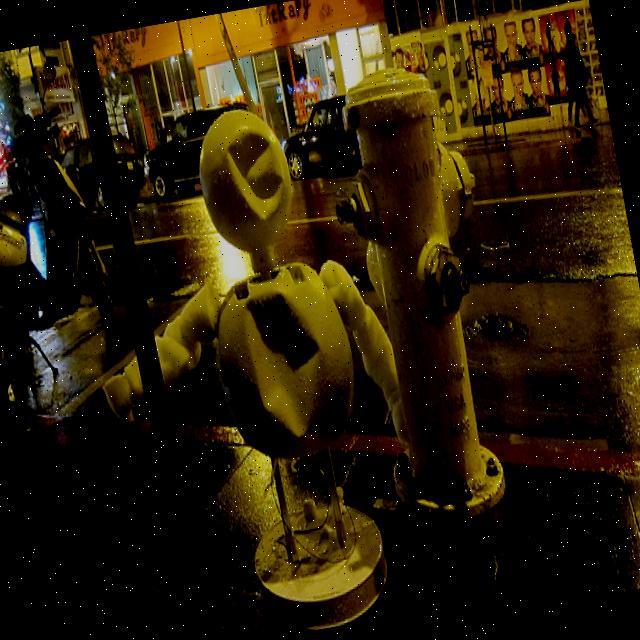fire_hydrant: (310, 62, 532, 535)
